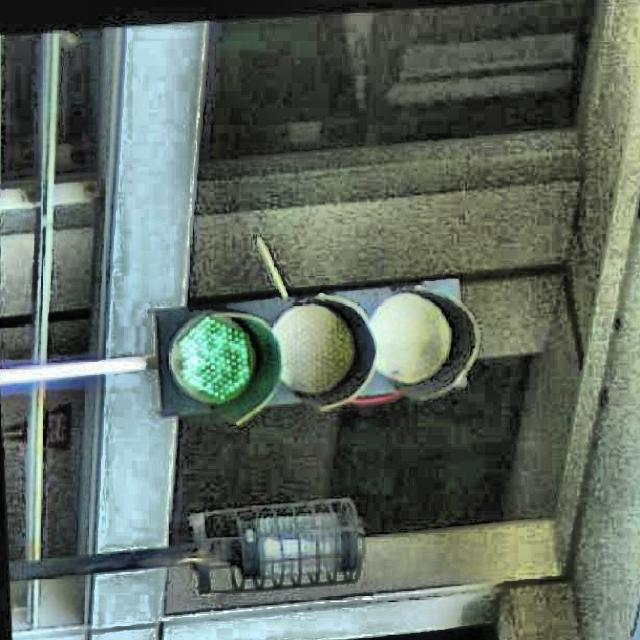green: (162, 276, 461, 422)
